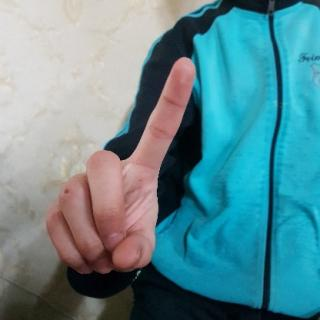BAA: (46, 52, 204, 284)
